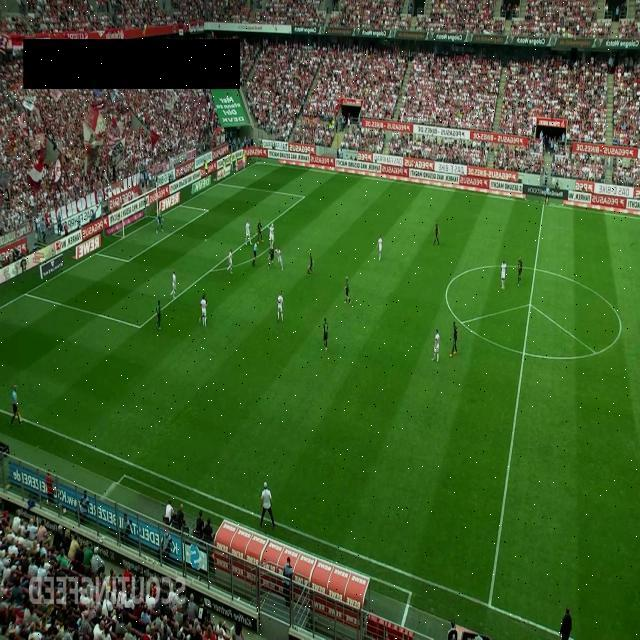Corner: (254, 140, 259, 163)
GoalKeeper: (156, 211, 164, 234)
Referee: (10, 384, 22, 426), (252, 240, 258, 266), (544, 184, 550, 206)
TEAM 1: (431, 329, 440, 362), (276, 292, 284, 322), (244, 219, 252, 246), (499, 260, 506, 290), (226, 248, 234, 274), (170, 270, 177, 298), (268, 222, 275, 250), (201, 296, 207, 328), (275, 248, 283, 270), (377, 235, 383, 261)
TEAM 2: (449, 320, 458, 358), (322, 316, 330, 353), (344, 276, 351, 304), (306, 250, 314, 274), (432, 222, 440, 246), (517, 256, 523, 286), (156, 300, 162, 330), (268, 245, 274, 269), (257, 220, 263, 242)
